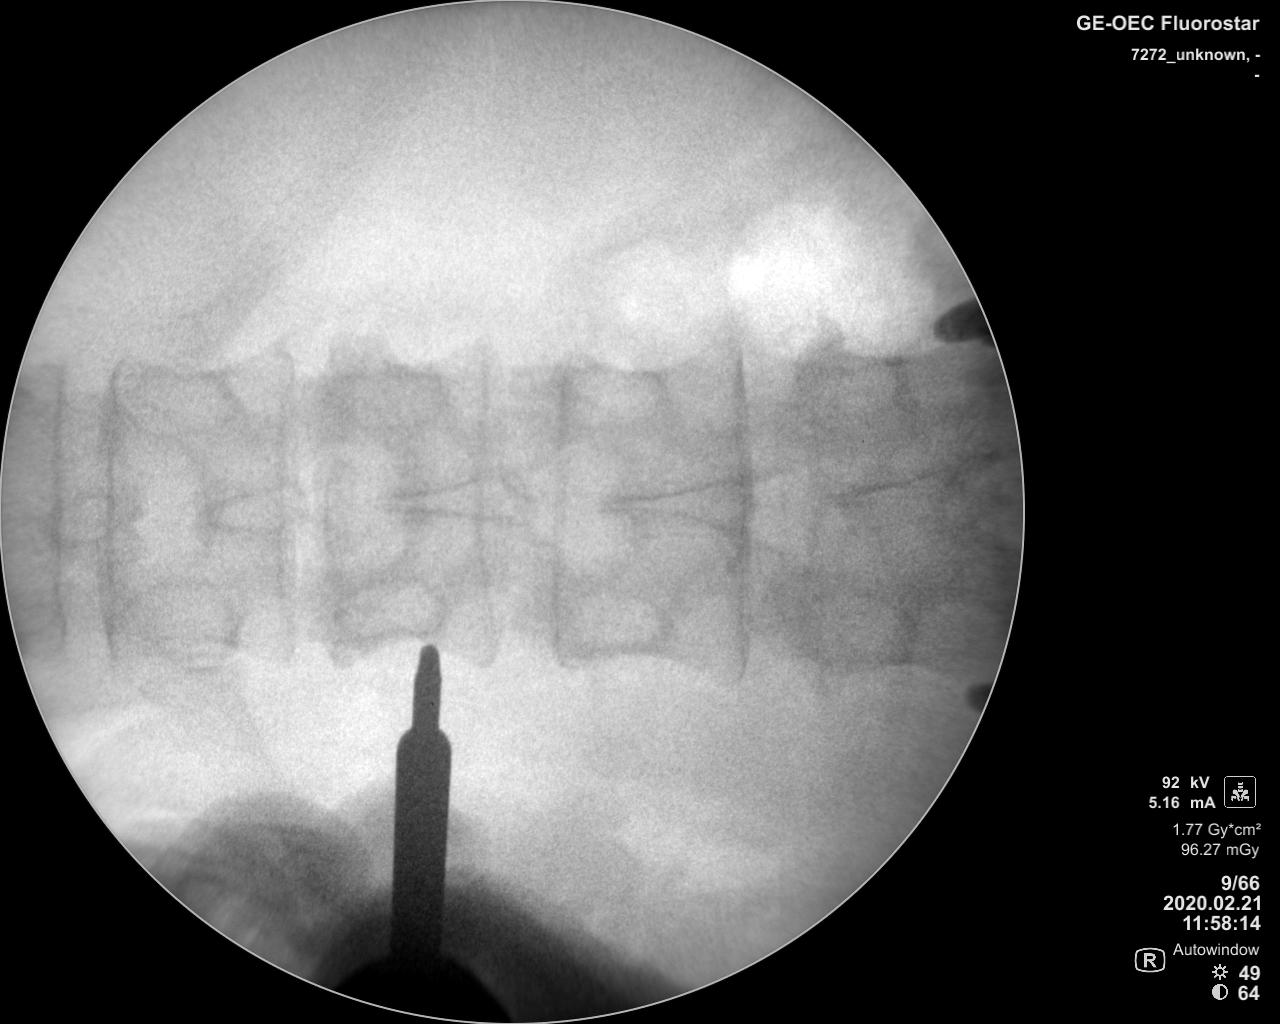eyes: (115, 355, 237, 439), (107, 584, 237, 661), (799, 591, 918, 674), (795, 344, 904, 429), (563, 351, 669, 437), (333, 358, 450, 435), (556, 588, 677, 661), (329, 578, 452, 641)
line: (713, 318, 762, 693), (463, 324, 504, 674), (265, 328, 302, 681), (539, 304, 573, 681), (88, 344, 125, 670), (41, 356, 76, 662), (319, 326, 348, 678)
nose: (588, 467, 774, 540), (366, 465, 543, 535), (813, 466, 978, 533), (193, 483, 310, 539), (28, 489, 133, 544)
